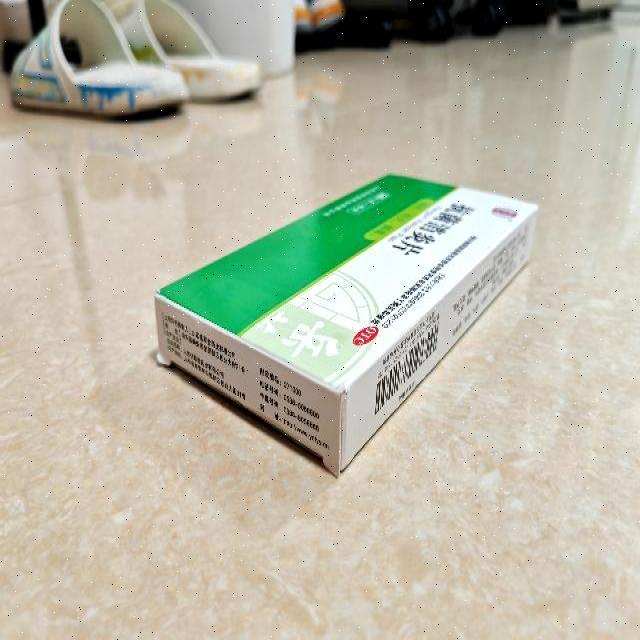box: (154, 171, 538, 477)
